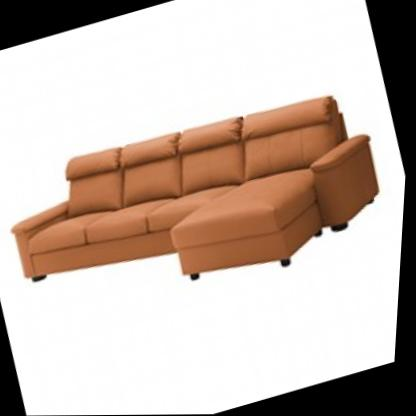Sofa: (0, 54, 410, 352)
